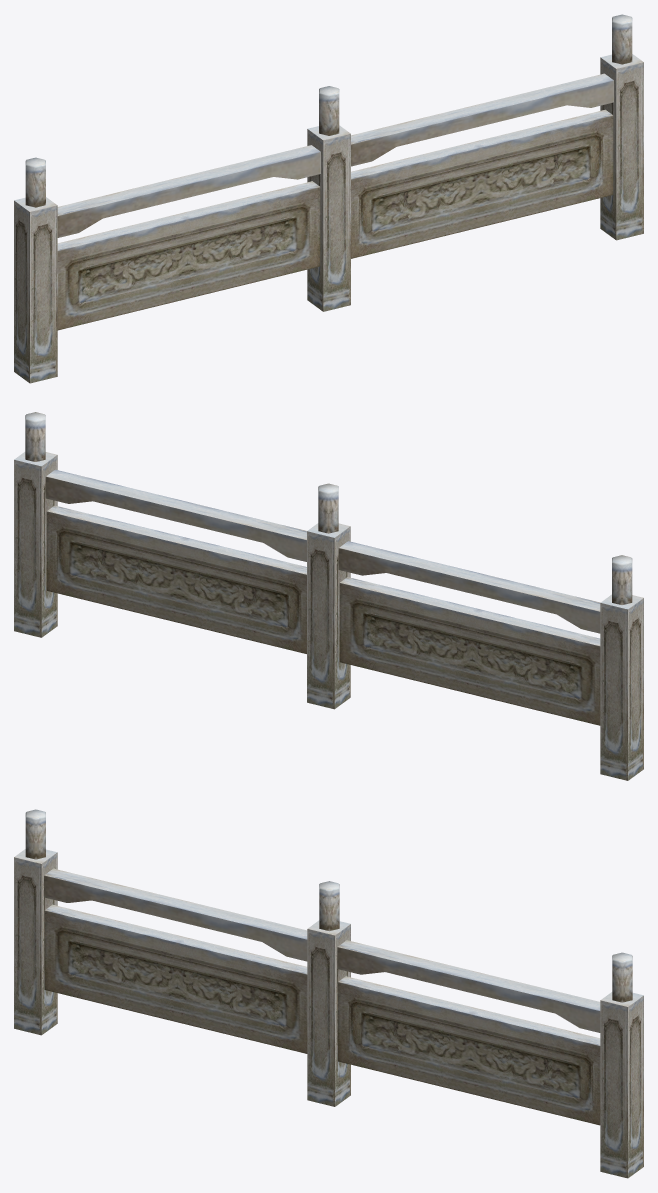
The model's file is jz_langan_03.FBX.
3 views of the same model, one above another, from view 1: azimuth 30°, elevation 25°; view 2: azimuth 150°, elevation 25°; view 3: azimuth 330°, elevation 25° (orthographic).
Visible parts, largest first — view 1: jz_langan_03; view 2: jz_langan_03; view 3: jz_langan_03.
Boxes of the visible parts, box(x1,y1,x2,y2) form: jz_langan_03: box(14, 14, 643, 383); jz_langan_03: box(14, 412, 643, 780); jz_langan_03: box(14, 809, 643, 1178).
Bounding box in the file's own units: 393 × 130 × 17.68.
